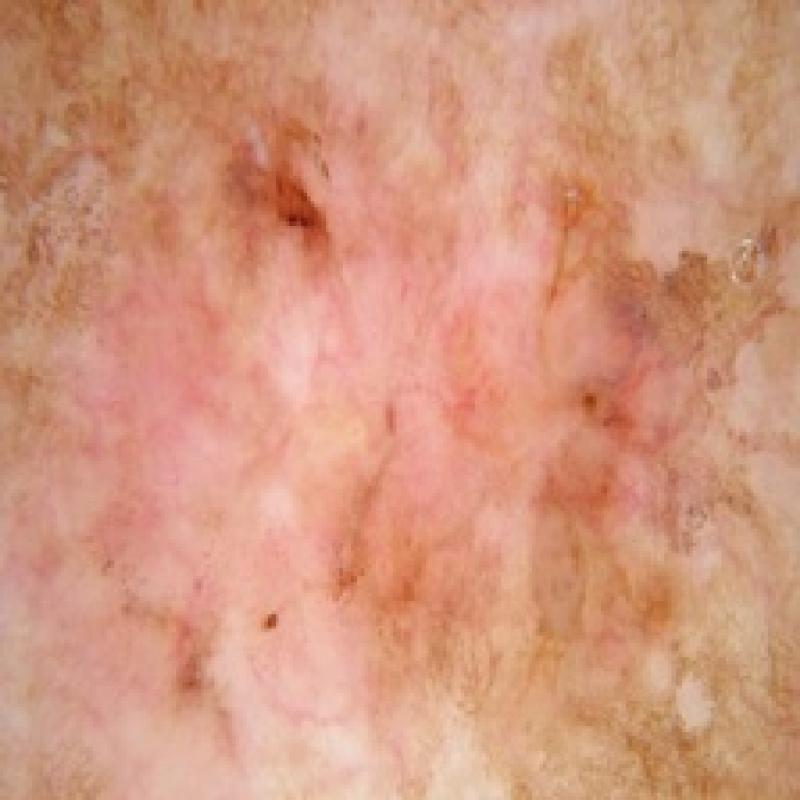malignant: (2, 2, 800, 800)
